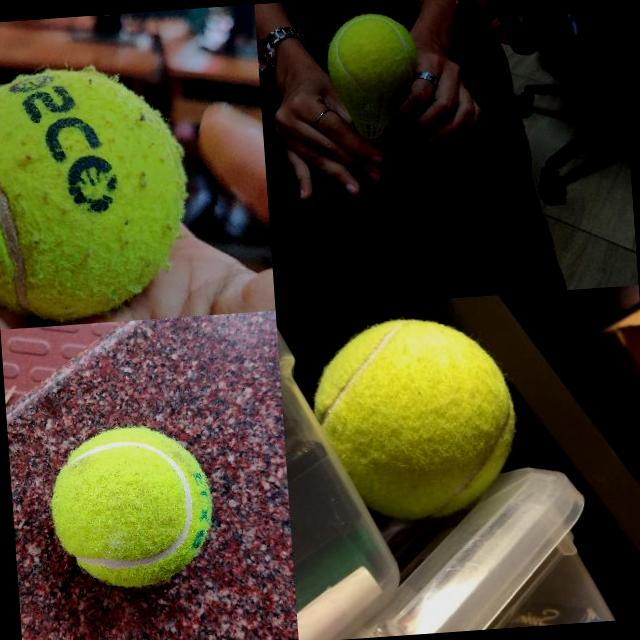Tennis Ball: (0, 59, 196, 324), (338, 306, 520, 480), (47, 422, 216, 592), (324, 11, 416, 88)
